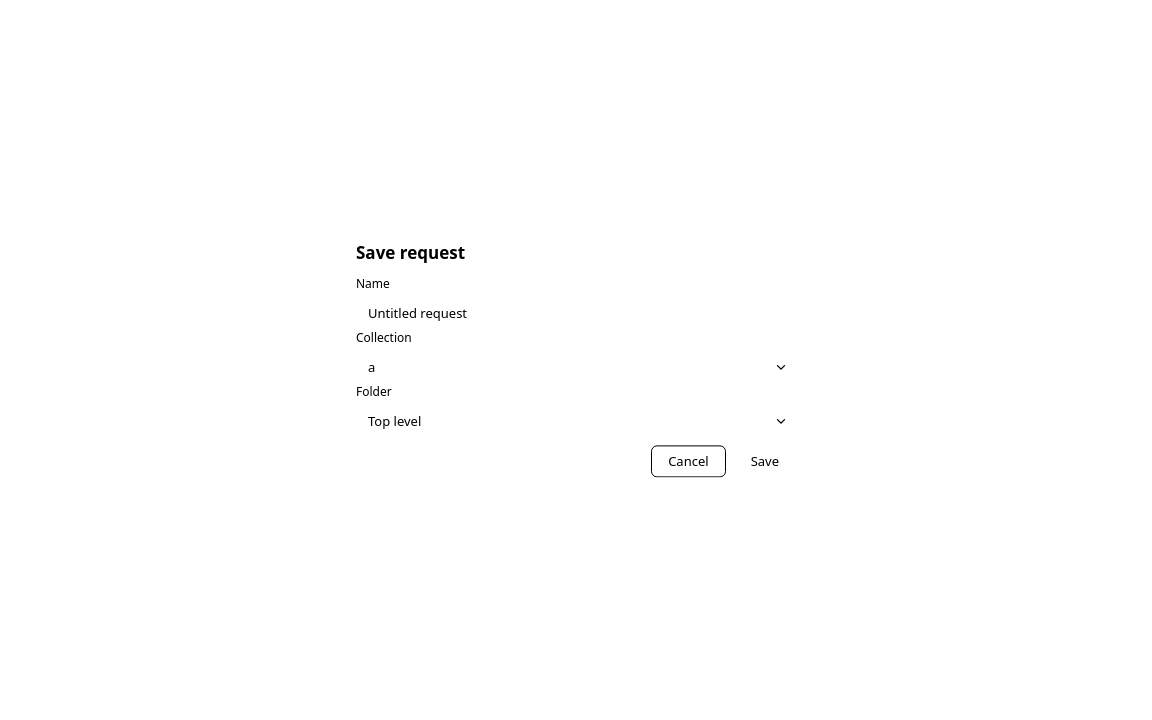
SaveDialog › orders collections like the navigator (case/accent-insensitive)
What coordinates should you click on to do the following:
click the dropdown named "Collection"
I would click on:
 (372, 367)
Its box is x1=356 y1=352 x2=796 y2=384.
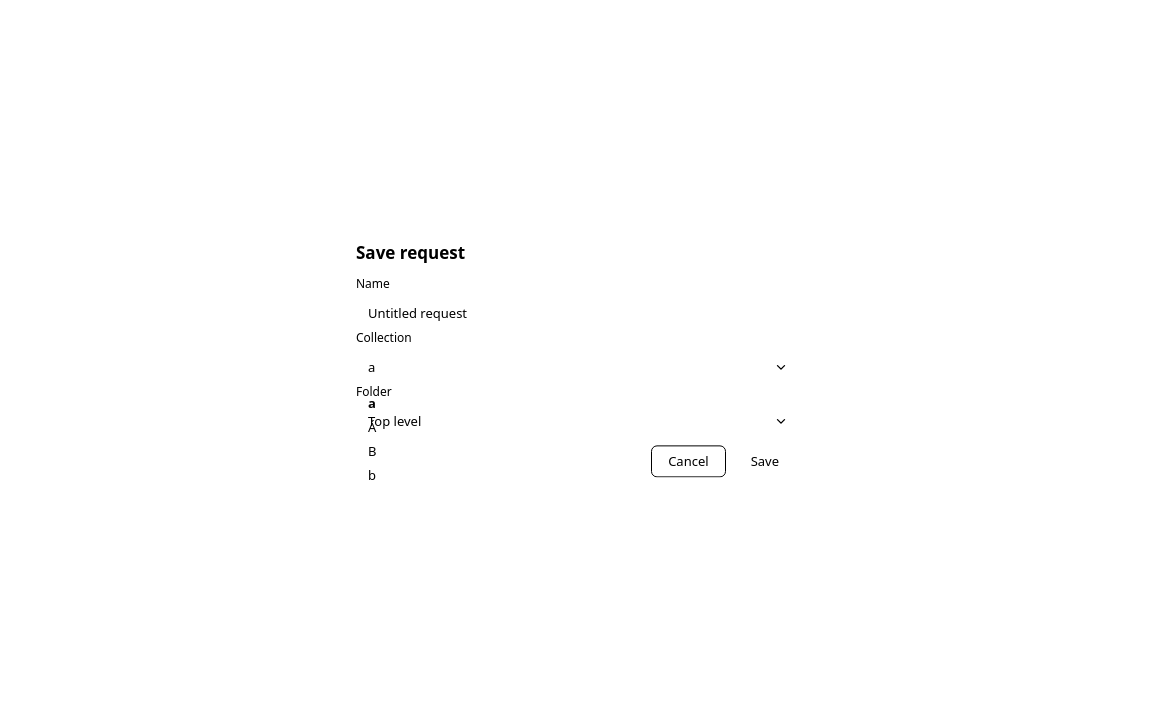
expect the options read "a", "Á", "B", "b", in this order: met, box x1=368 y1=394 x2=376 y2=412; x1=368 y1=418 x2=376 y2=436; x1=368 y1=442 x2=376 y2=460; x1=368 y1=466 x2=376 y2=484
